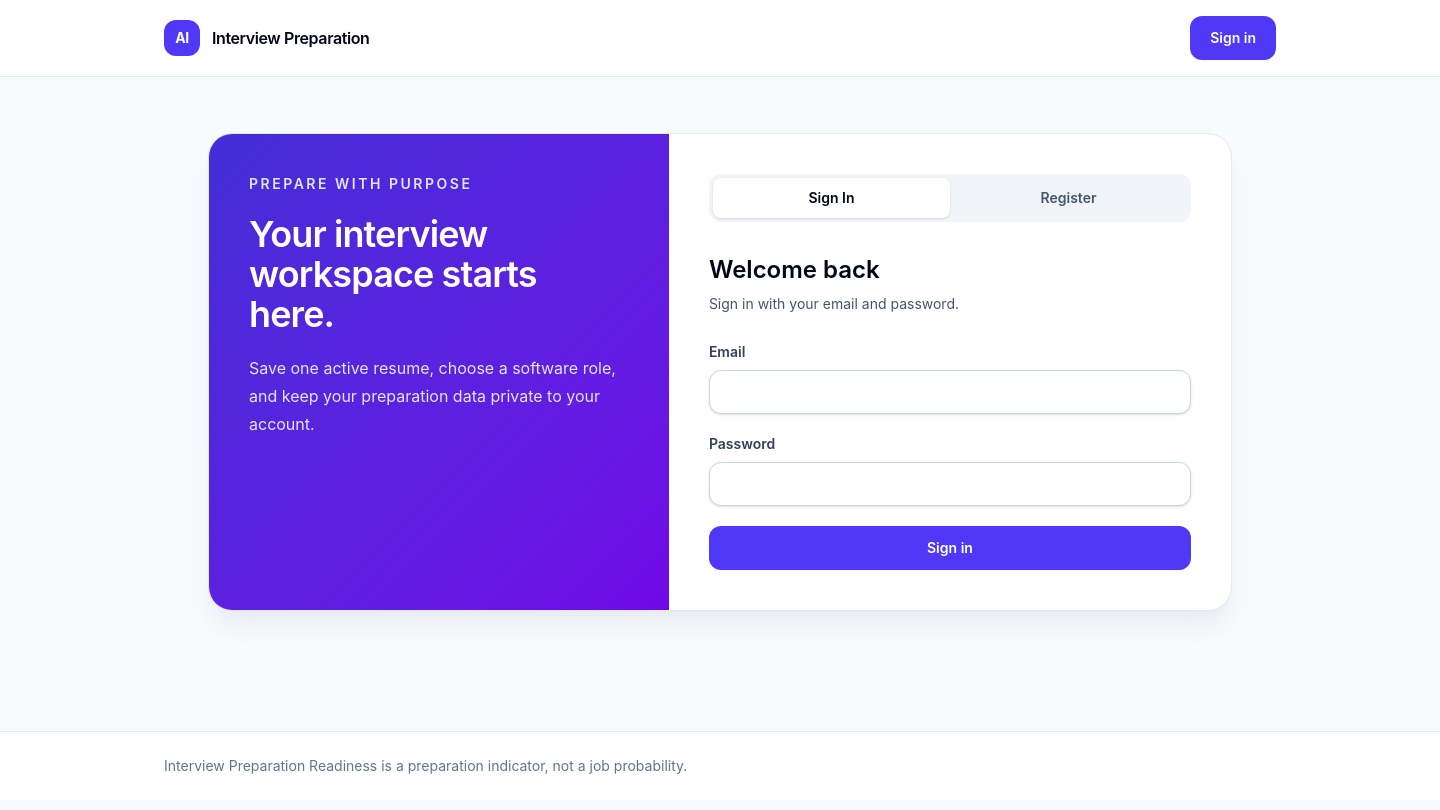
Test: Phase 2 application flows › logs in and logs out through the server session flow
Type "student@example.com" into the field labelled "Email".
click(950, 392); type("student@example.com")  # box [709,370,1191,414]
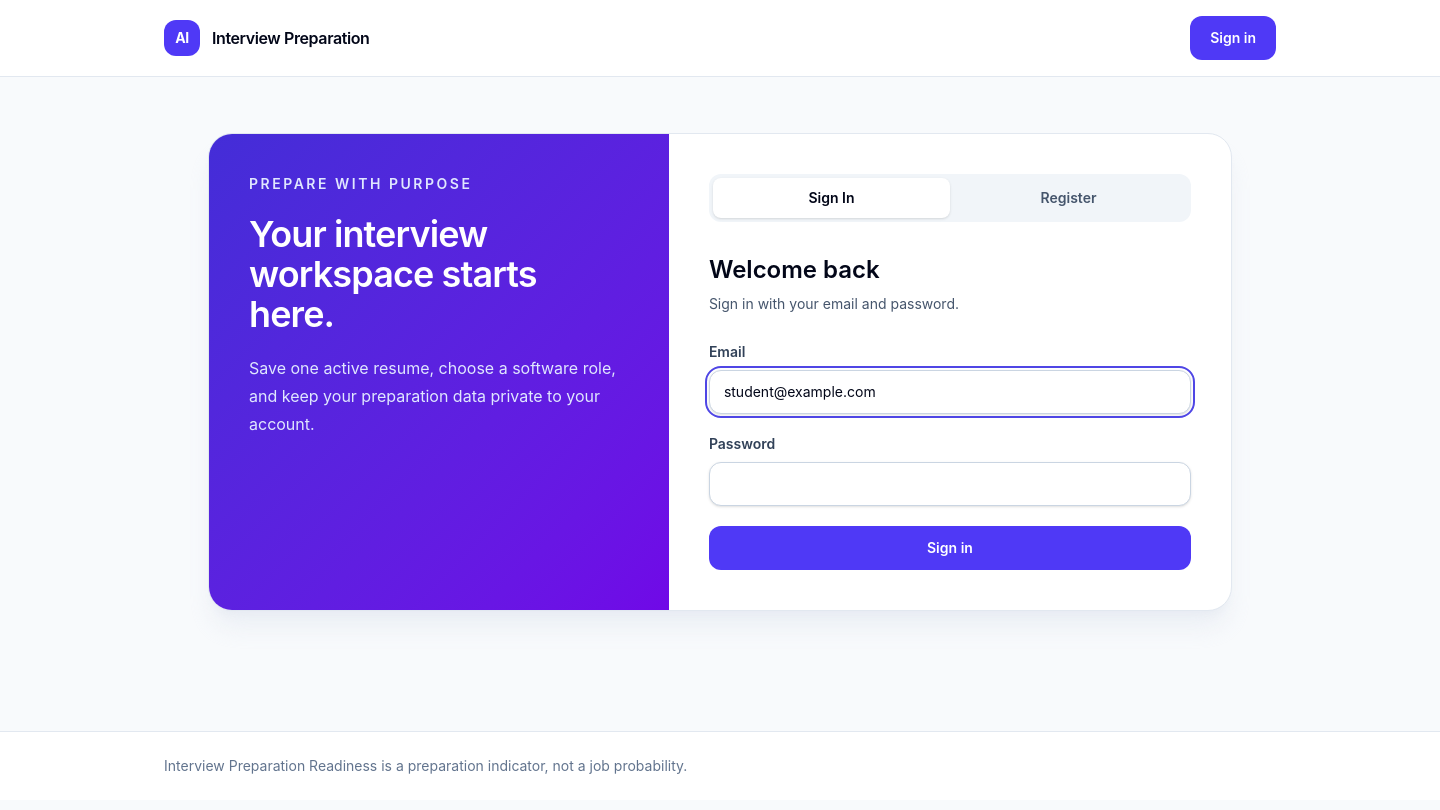
Type "student-pass-123" into the password field labelled "Password".
click(950, 484); type("student-pass-123")  # box [709,462,1191,506]
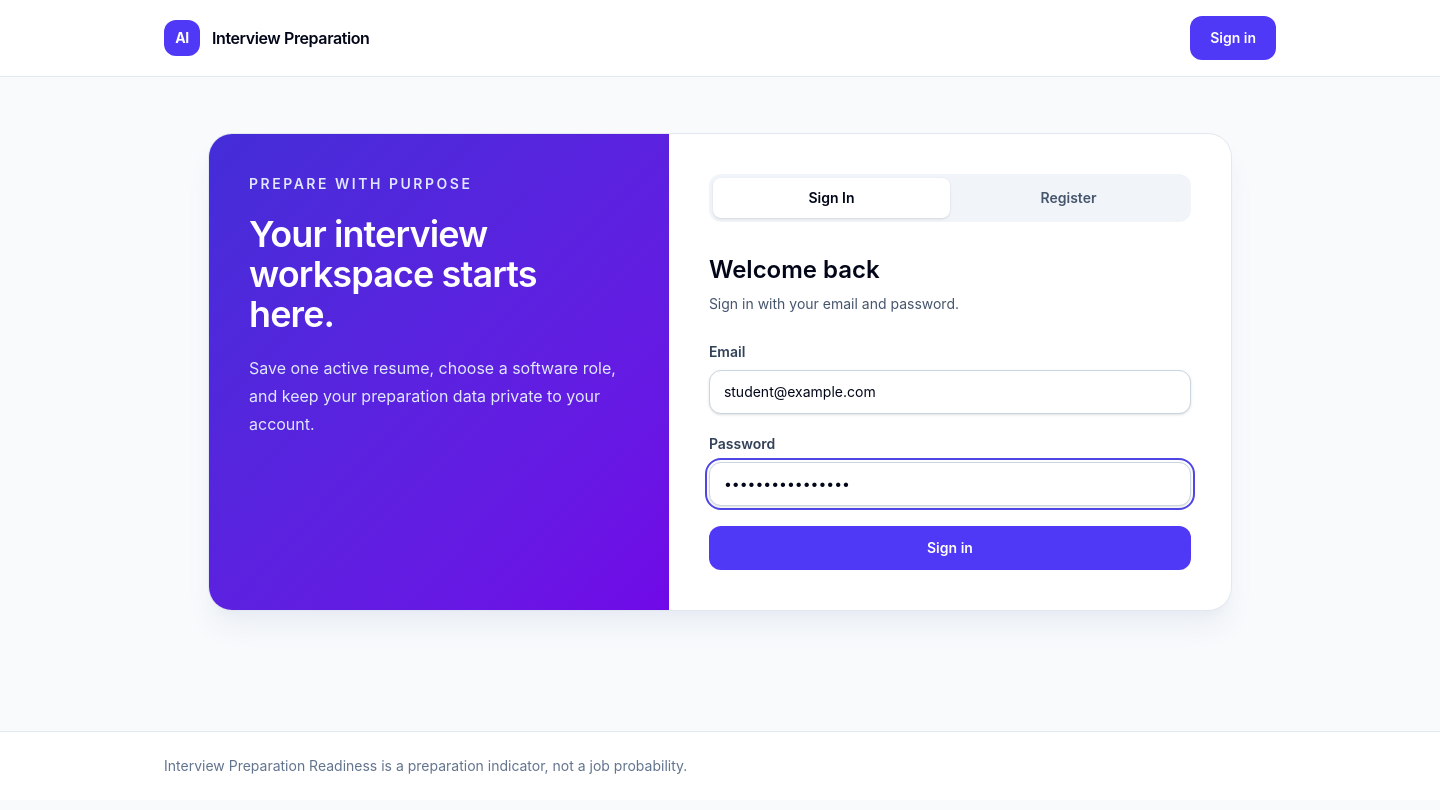
Click the 2nd button "Sign in".
click(950, 548)  # box [709,526,1191,570]
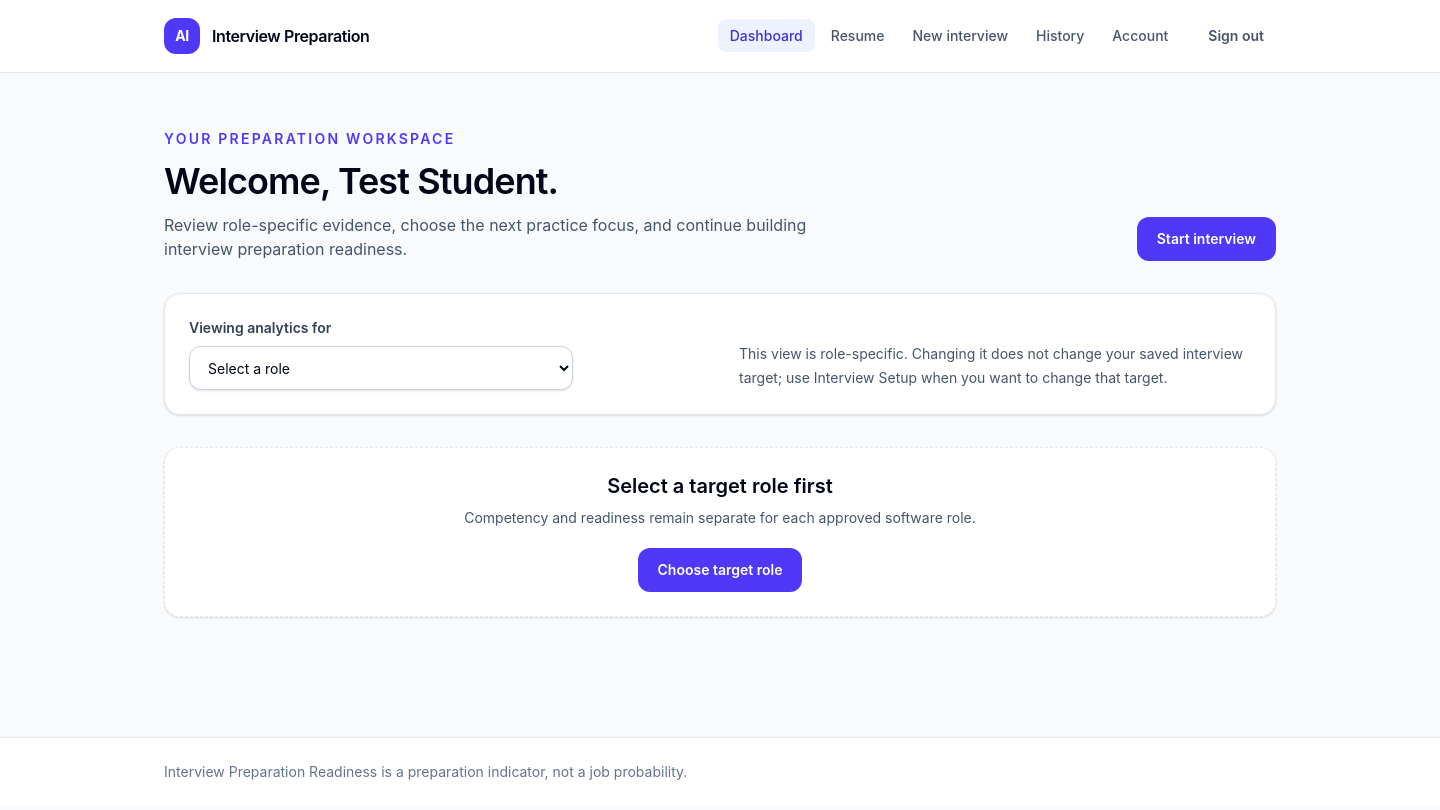
Result: the heading "Welcome, Test Student." is shown at [164,159,558,203]
Click the button "Sign out".
click(1236, 36)  # box [1196,16,1276,56]
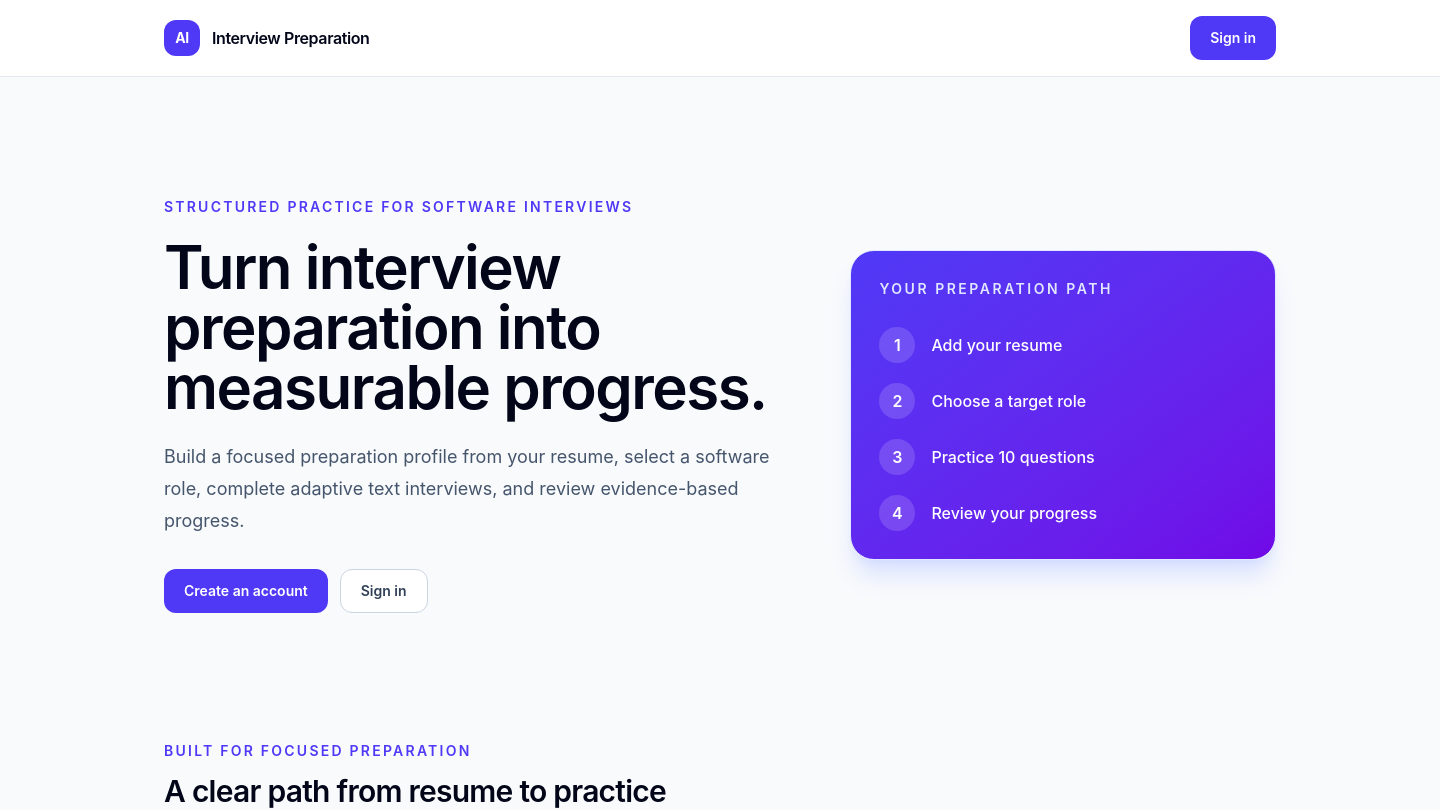
Result: the heading "Turn interview preparation into measurable progress." is shown at [164,237,802,417]
